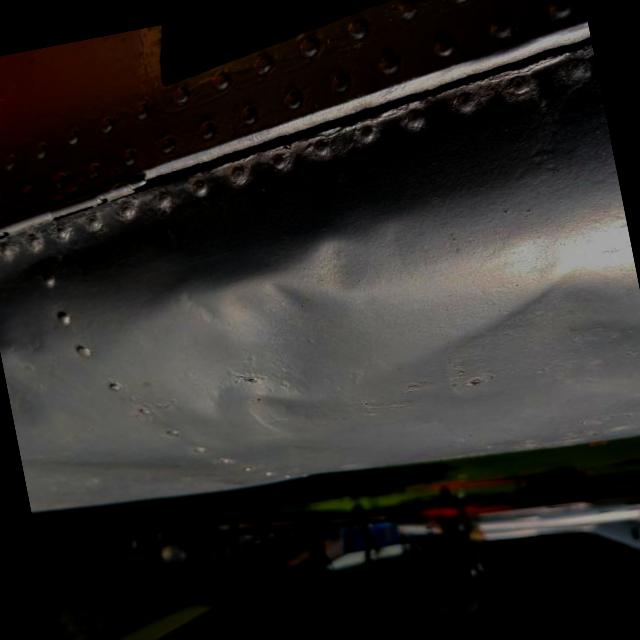dent: (96, 183, 439, 487)
